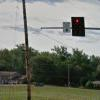Traffic light: (58, 10, 95, 45)
